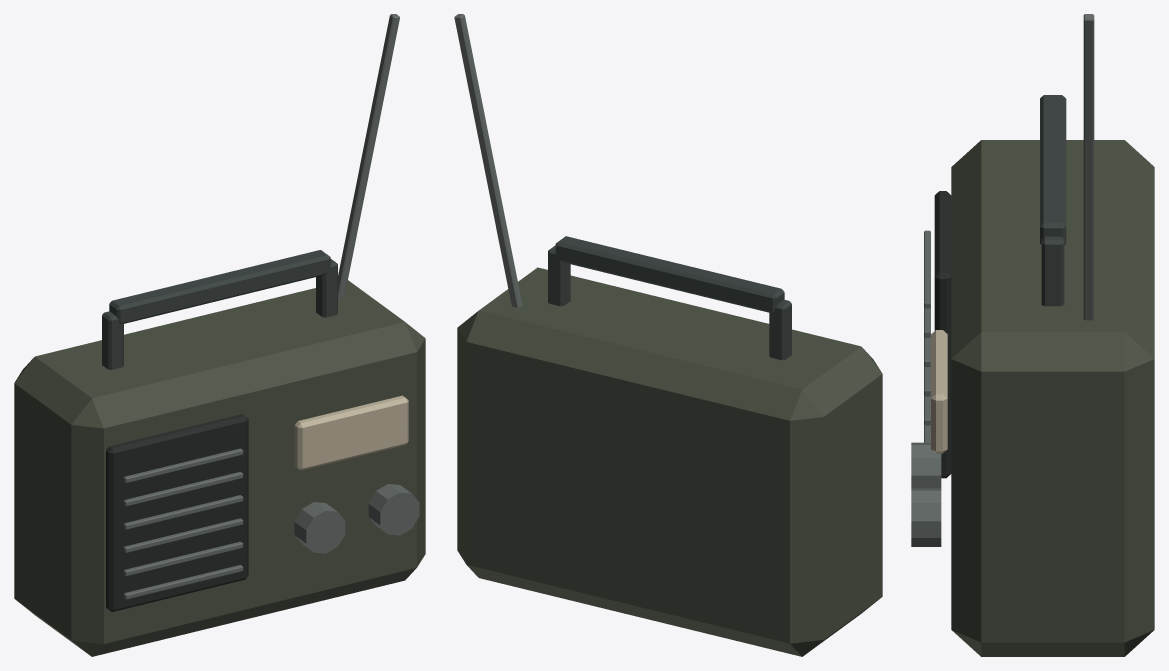
File: Radio01.fbx
3 views of the same model, side by side, from view 1: azimuth 30°, elevation 25°; view 2: azimuth 150°, elevation 25°; view 3: azimuth 270°, elevation 25° (orthographic). The views are drawn at different scales.
Visible parts, largest first — view 1: Radio_Case, Speaker, Tuner_Scale, Carry_Handle, Antenna, Dial, Dial.001, Handle_Support, Handle_Support.001, Speaker_Grille, Speaker_Grille.001, Speaker_Grille.005 (+3 smaller); view 2: Radio_Case, Carry_Handle, Antenna, Handle_Support, Handle_Support.001; view 3: Radio_Case, Carry_Handle, Antenna, Speaker, Tuner_Scale, Dial.001, Handle_Support.001, Dial, Speaker_Grille.005.
Boxes of the visible parts, x1=… form: Radio_Case: x1=14, y1=280, x2=425, y2=656; Speaker: x1=106, y1=414, x2=248, y2=611; Tuner_Scale: x1=294, y1=395, x2=408, y2=470; Carry_Handle: x1=109, y1=250, x2=330, y2=323; Antenna: x1=338, y1=14, x2=399, y2=298; Dial: x1=294, y1=502, x2=345, y2=553; Dial.001: x1=368, y1=484, x2=419, y2=535; Handle_Support: x1=102, y1=311, x2=123, y2=369; Handle_Support.001: x1=316, y1=259, x2=337, y2=317; Speaker_Grille: x1=123, y1=565, x2=243, y2=599; Speaker_Grille.001: x1=123, y1=541, x2=243, y2=576; Speaker_Grille.005: x1=123, y1=448, x2=243, y2=483; Radio_Case: x1=457, y1=267, x2=882, y2=656; Carry_Handle: x1=555, y1=236, x2=784, y2=312; Antenna: x1=454, y1=14, x2=522, y2=307; Handle_Support: x1=769, y1=299, x2=791, y2=360; Handle_Support.001: x1=548, y1=245, x2=570, y2=306; Radio_Case: x1=951, y1=140, x2=1154, y2=656; Carry_Handle: x1=1040, y1=95, x2=1066, y2=244; Antenna: x1=1083, y1=14, x2=1094, y2=320; Speaker: x1=934, y1=191, x2=951, y2=478; Tuner_Scale: x1=931, y1=330, x2=947, y2=453; Dial.001: x1=911, y1=488, x2=941, y2=546; Handle_Support.001: x1=1041, y1=236, x2=1064, y2=306; Dial: x1=911, y1=442, x2=941, y2=488; Speaker_Grille.005: x1=924, y1=230, x2=930, y2=308.
Size of the model in its own units: 44.91 by 61.07 by 20.35.
